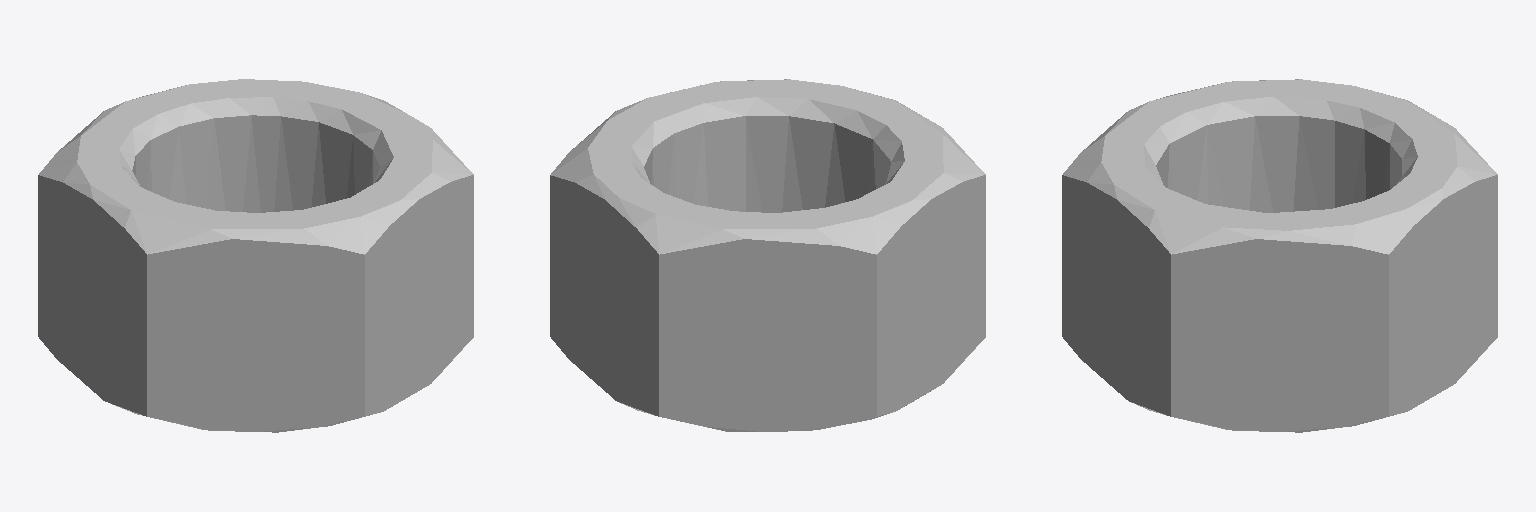
File: m16 nuts for grundbooks.obj
3 views of the same model, side by side, from view 1: azimuth 30°, elevation 25°; view 2: azimuth 150°, elevation 25°; view 3: azimuth 270°, elevation 25° (orthographic).
Visible parts, largest first — view 1: imagetostl_mesh0; view 2: imagetostl_mesh0; view 3: imagetostl_mesh0.
Part boxes in pixels (x1,y1,x2,y2): imagetostl_mesh0: (38, 79, 473, 432); imagetostl_mesh0: (550, 79, 985, 431); imagetostl_mesh0: (1062, 79, 1497, 432).
Bounding box in the file's own units: 22 × 13 × 25.4.